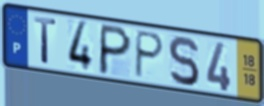4: (204, 38, 233, 94), (66, 18, 95, 74)
P: (97, 22, 134, 78), (133, 29, 166, 81)
S: (167, 34, 201, 88)
T: (32, 15, 58, 67)
